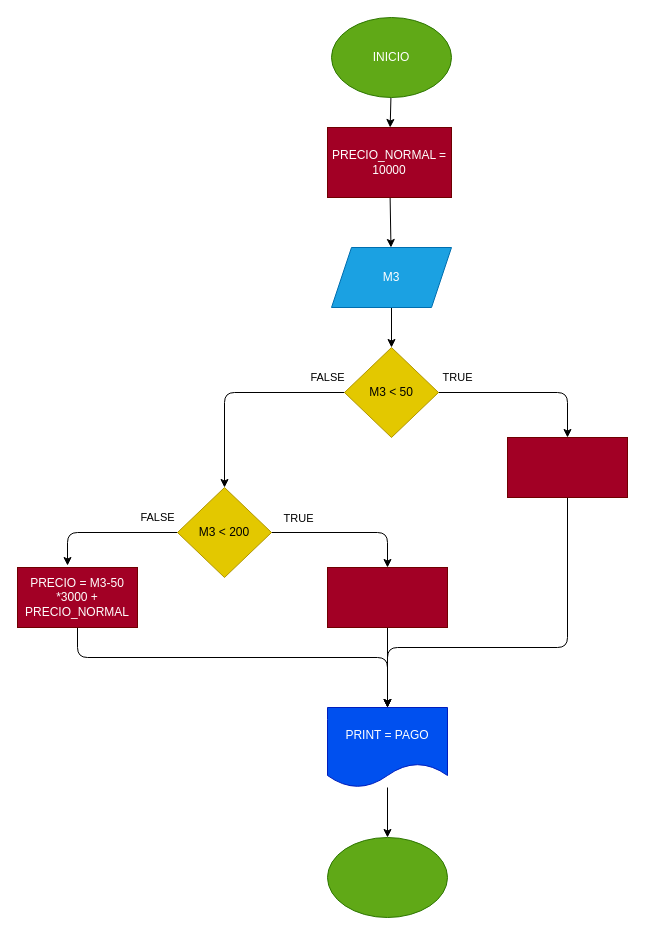
Some shapes in this 645 by 935 pixel diagram are drawn without their labels. The shapes that lost their labels are listed below. From the top down, each one's box as (x1, y1, x2, y2) in pixels, then its label:
(506, 436, 628, 498): PAGO = 10000
(326, 566, 448, 628): PAGO = M3 -50 *2000 + PRECIO_NORMAL
(326, 836, 448, 918): FIN
